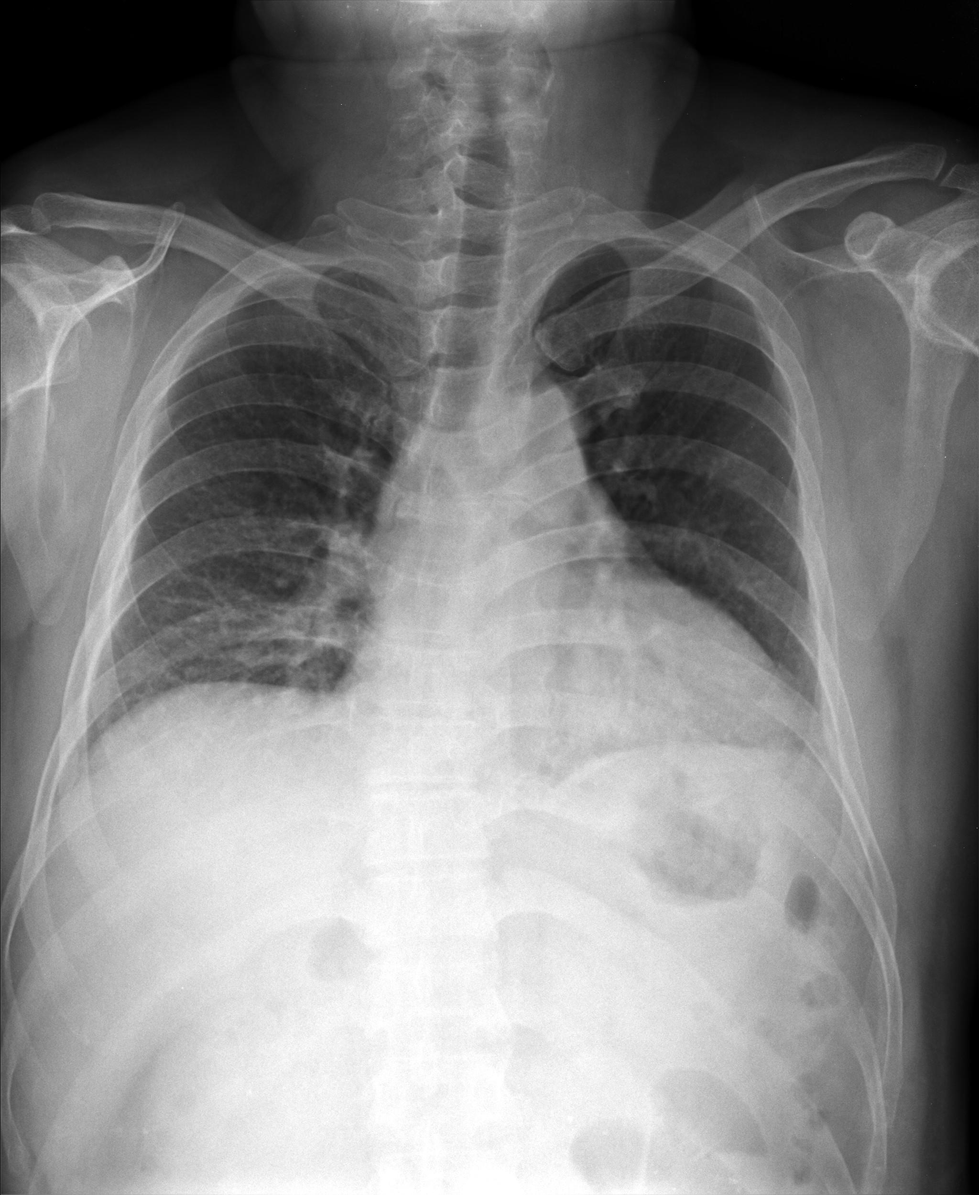Aortic enlargement: (482, 370, 589, 477)
Cardiomegaly: (353, 624, 802, 756)
Pulmonary fibrosis: (146, 574, 310, 669)
